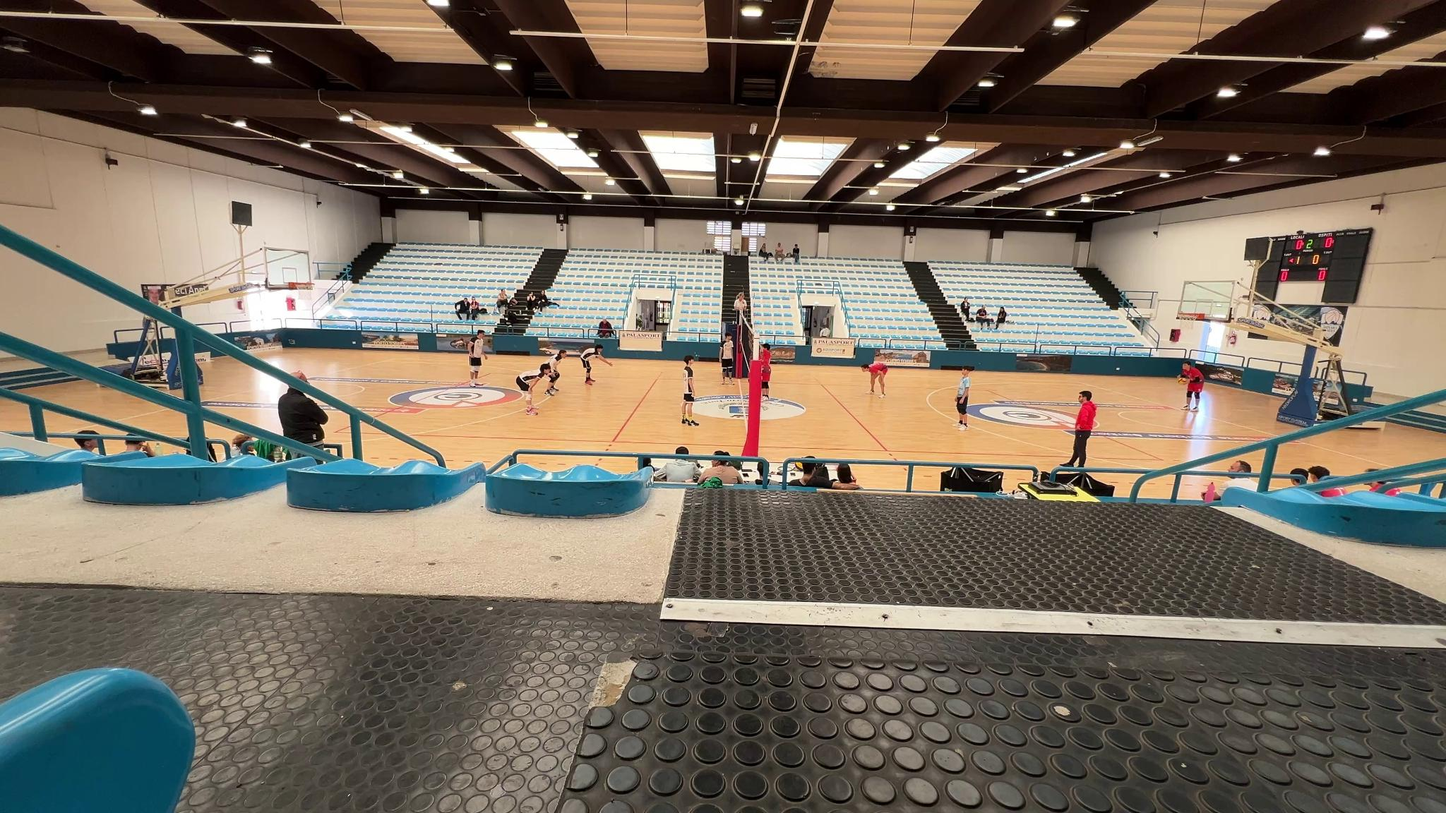volleyball court: (335, 363, 1162, 461)
